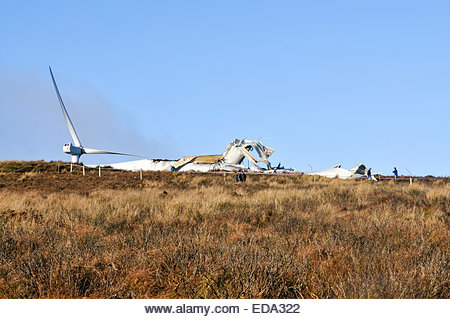faulty: (138, 138, 285, 167)
